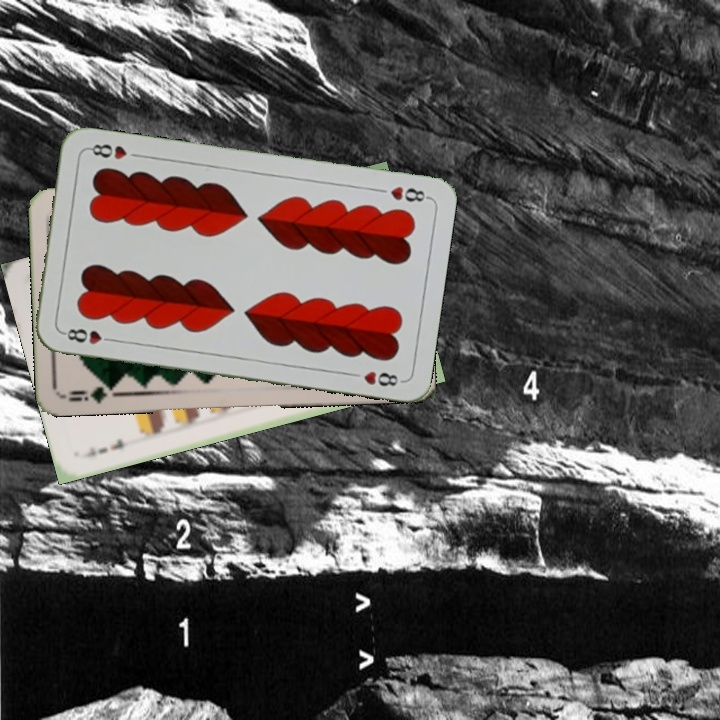E7: (78, 435, 127, 460)
G9: (60, 379, 119, 406)
H8: (59, 324, 118, 347), (372, 182, 431, 205)
